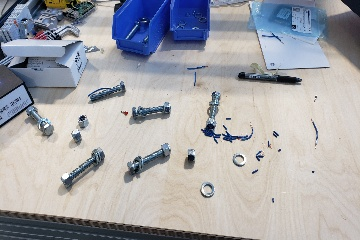Bolt: (88, 78, 126, 104)
FalseAssembly: (125, 98, 171, 124), (203, 88, 224, 131)
FinishedAssembly: (57, 144, 108, 190), (125, 142, 174, 178), (23, 105, 56, 138)
Nut: (182, 145, 197, 169), (70, 128, 84, 146), (76, 113, 91, 129)
Washer: (229, 151, 248, 169), (198, 180, 218, 197)
